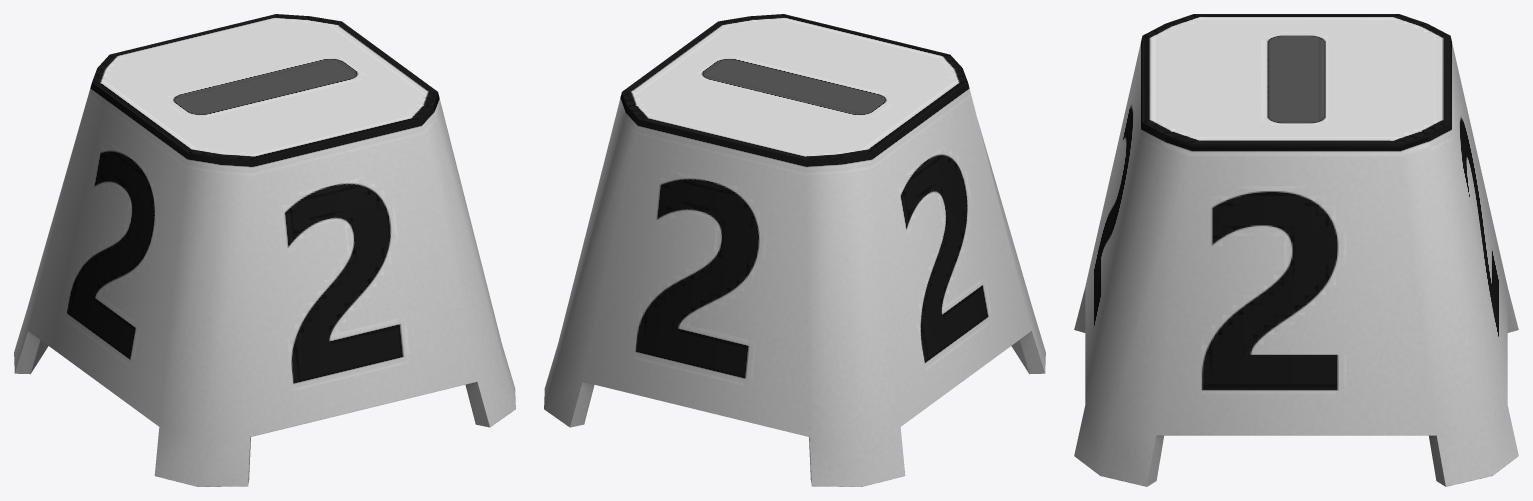
The picture shows the model from 3 angles, left to right: view 1: azimuth 30°, elevation 25°; view 2: azimuth 150°, elevation 25°; view 3: azimuth 270°, elevation 25°; orthographic projection. The views are drawn at different scales.
Parts seen in each view (by area): view 1: No_2_Box; view 2: No_2_Box; view 3: No_2_Box.
Part boxes in pixels (x1=…): No_2_Box: x1=14, y1=14, x2=515, y2=486; No_2_Box: x1=544, y1=14, x2=1045, y2=486; No_2_Box: x1=1074, y1=14, x2=1518, y2=486.
Bounding box in the file's own units: 0.4097 × 0.319 × 0.4097.
1 material, 1 textured.
